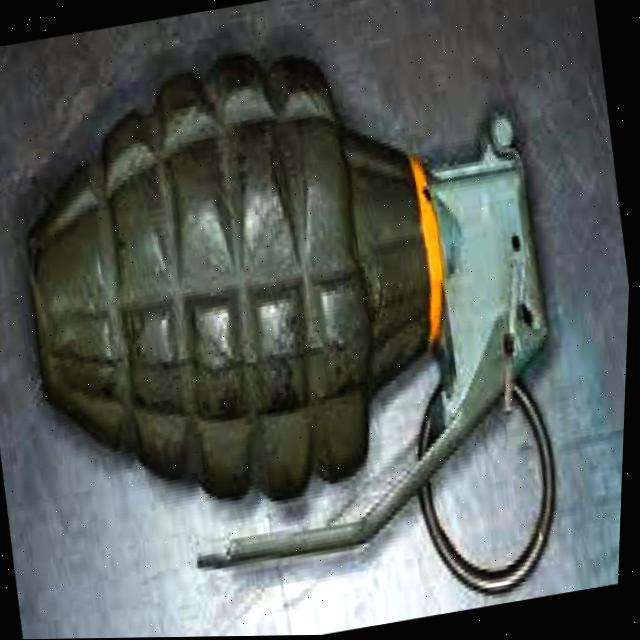grenade: (0, 0, 612, 640)
